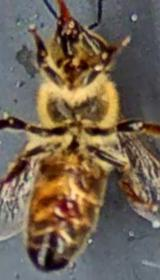varroa_mite: (43, 186, 90, 224)
